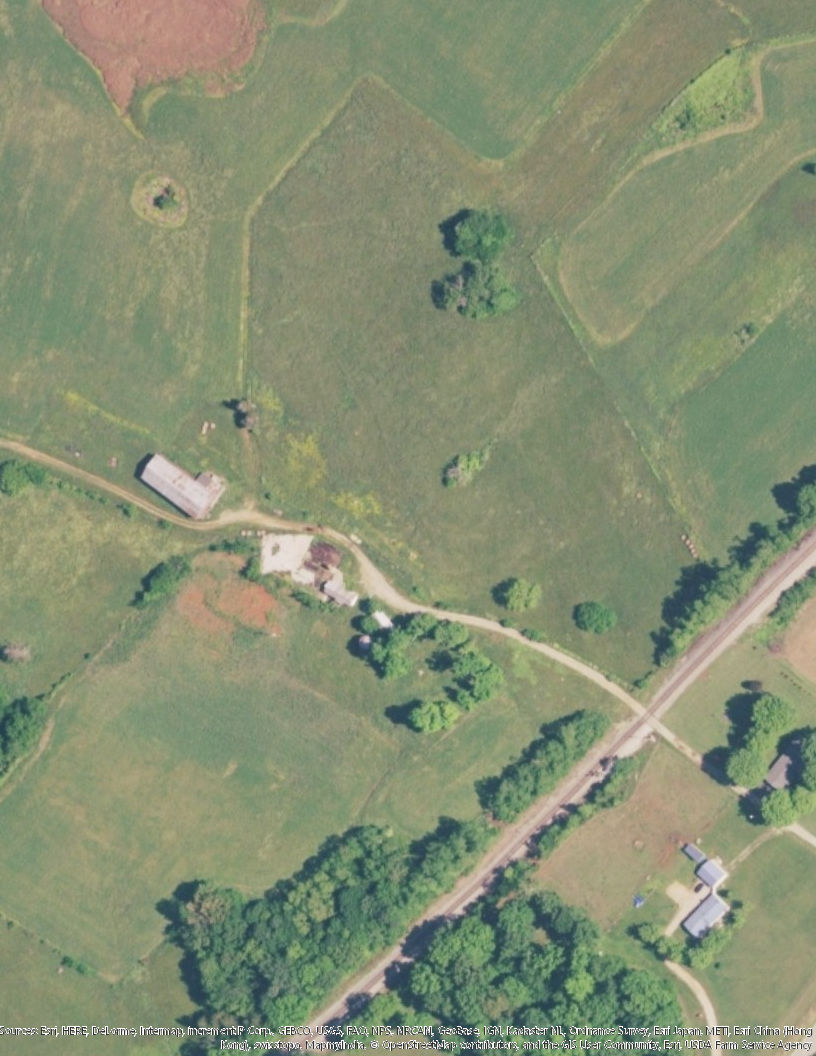cafo: (135, 451, 229, 527)
